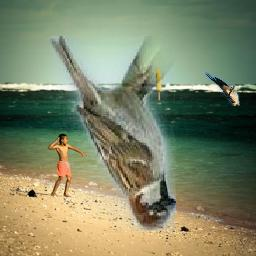Sparrow: (50, 37, 176, 232)
Swallow: (206, 72, 241, 106)
